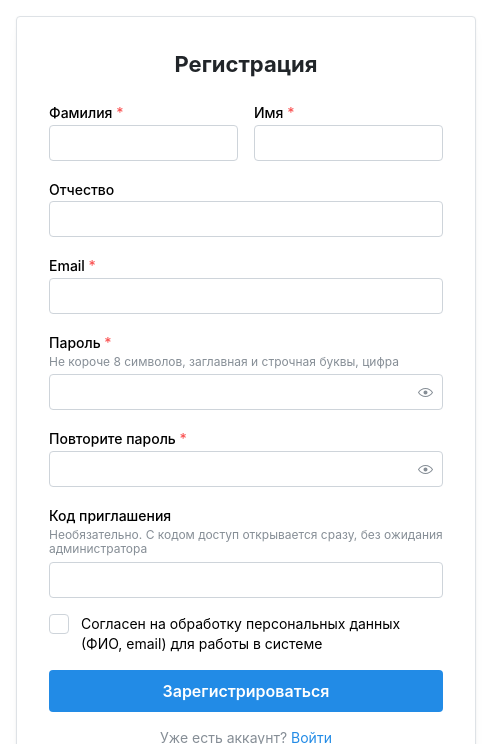
Scenario: RegisterPage › без согласия на обработку данных запрос не уходит
Step 1. Type "Петров" into the field labelled "Фамилия *" → (144, 143), box [49, 125, 238, 161]
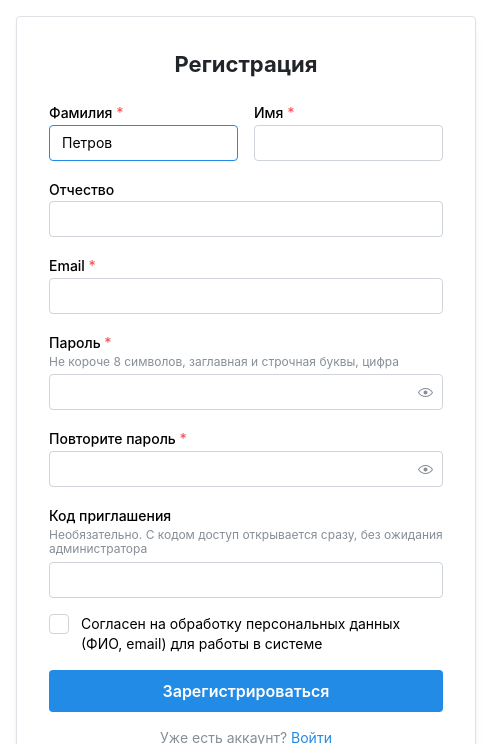
Step 2. Type "Иван" into the field labelled "Имя *" → (348, 143), box [254, 125, 443, 161]
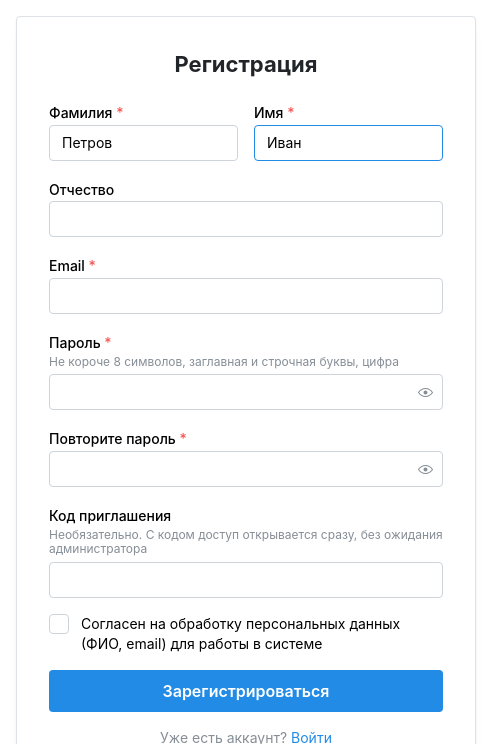
Step 3. Type "ivan@scoodle.local" into the field labelled "Email *" → (246, 296), box [49, 278, 443, 314]
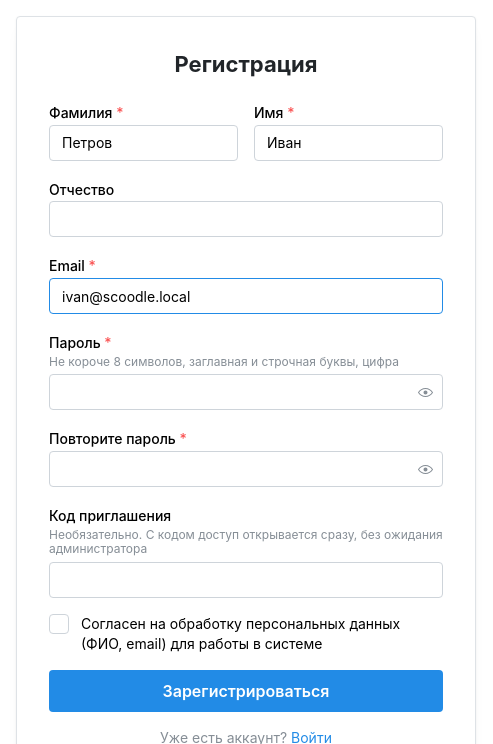
Step 4. Type "Password1" into the password field labelled "Пароль *" → (246, 392), box [50, 375, 442, 409]
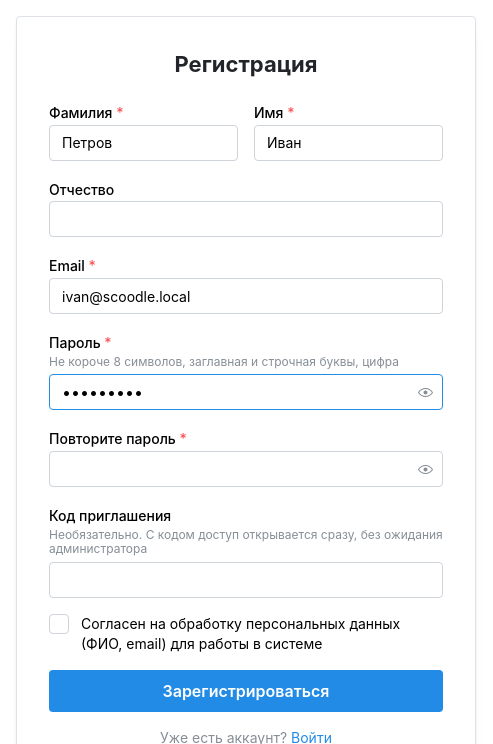
Step 5. Type "Password1" into the password field labelled "Повторите пароль *" → (246, 469), box [50, 452, 442, 486]
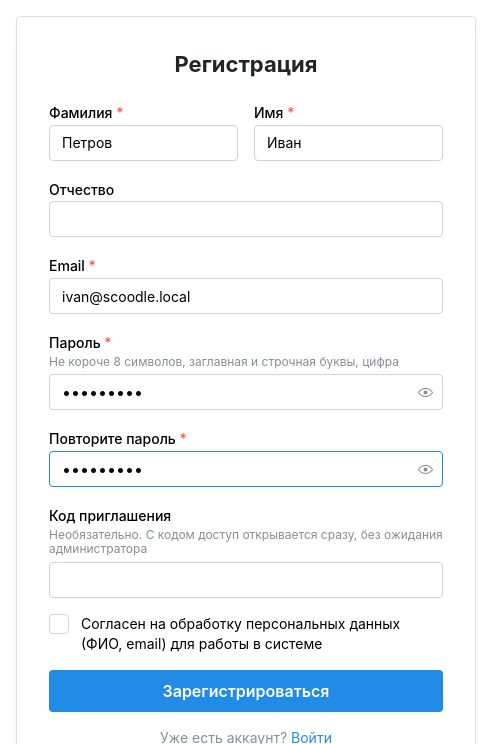
Step 6. Click the button "Зарегистрироваться" → (246, 691), box [49, 670, 443, 712]
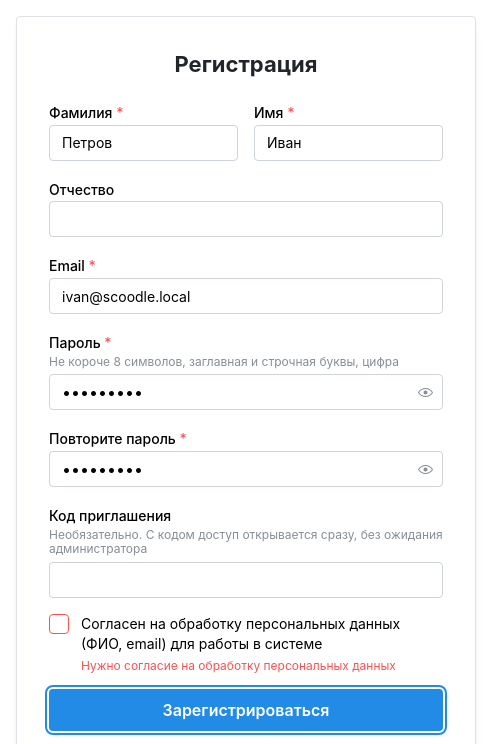
Expected: the text "Нужно согласие на обработку персональных данных" is shown, [81, 658, 396, 673]
